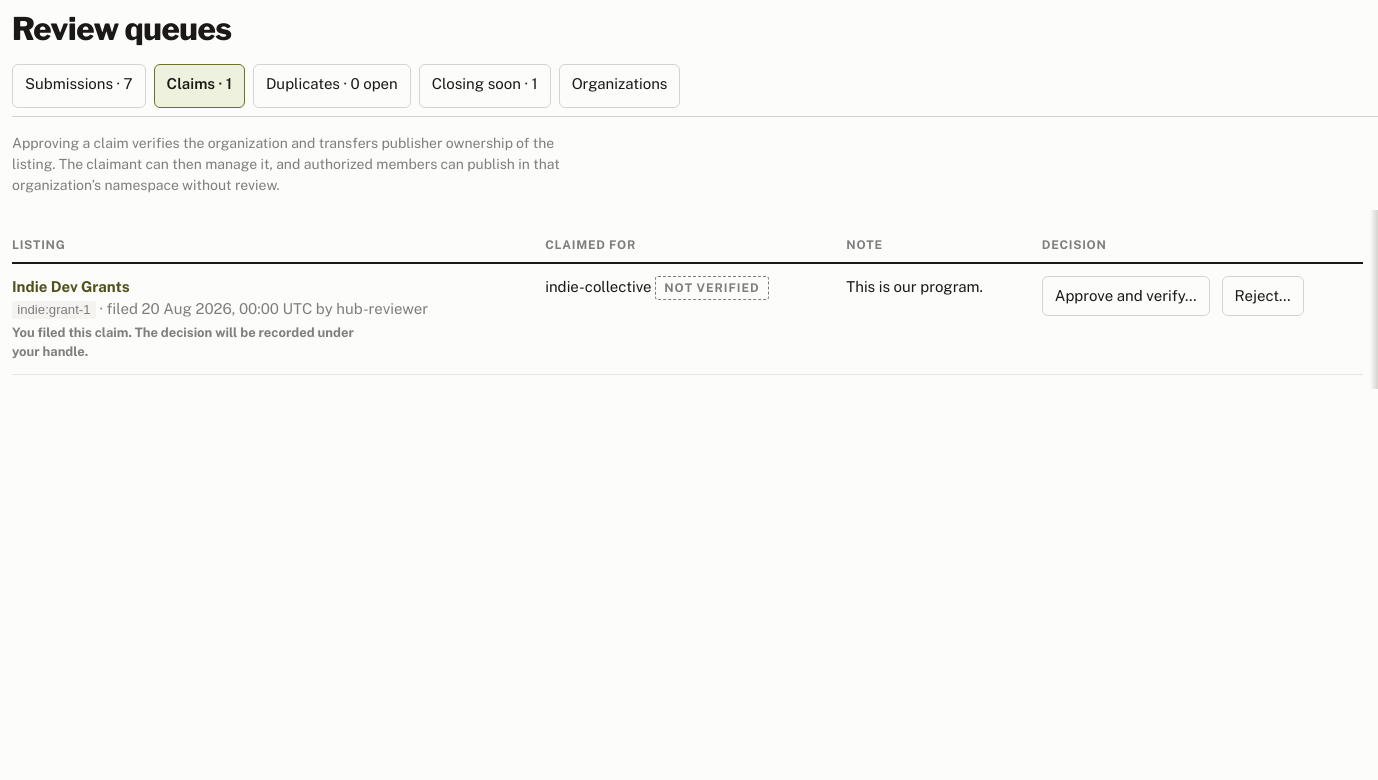
Test: deciding a claim › discloses a reviewer deciding their own claim in the row and confirmation
Expected: the text "You filed this claim. The decision will be recorded under your handle." is shown, [12, 325, 354, 359]
Click the button "Approve and verify…". click: coordinates (1126, 296)
box: [1042, 276, 1210, 316]
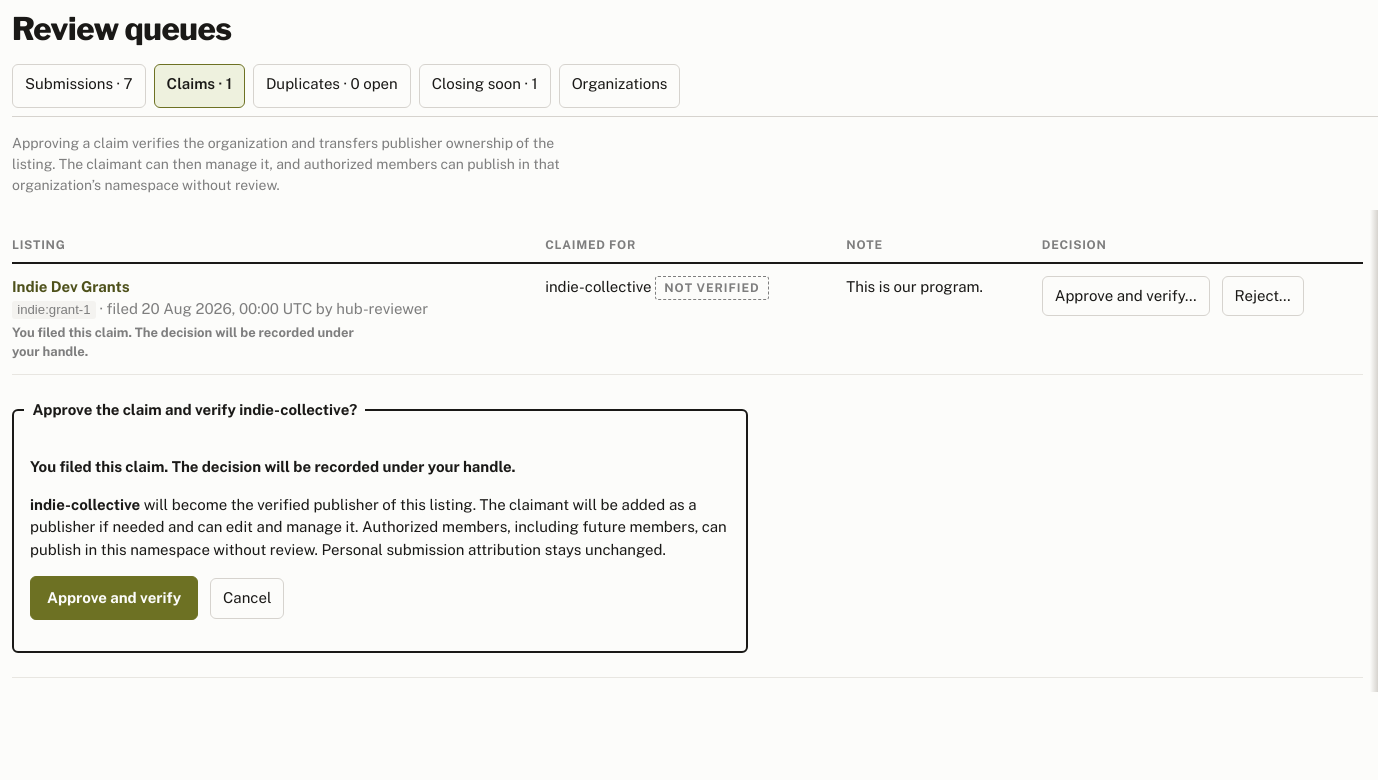
Now the 2nd text "You filed this claim. The decision will be recorded under your handle." is shown, box [30, 458, 516, 475]
